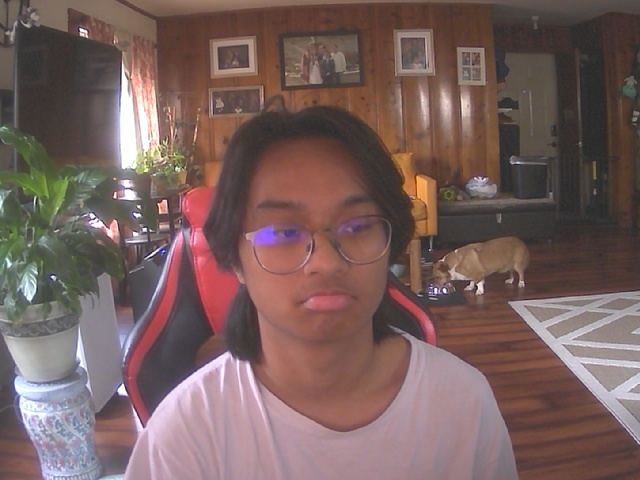sad: (225, 124, 406, 346)
